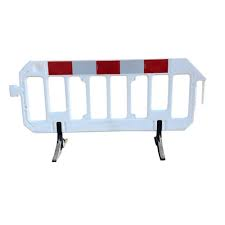barrier: (9, 56, 206, 165)
